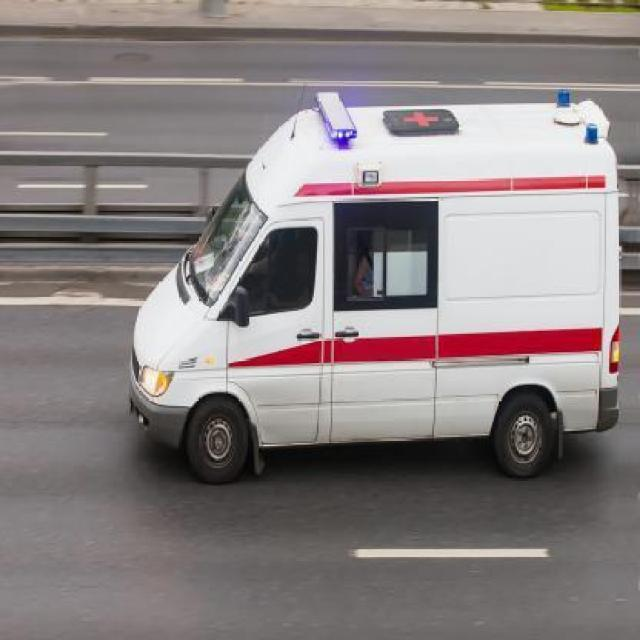emergency: (125, 86, 622, 484)
